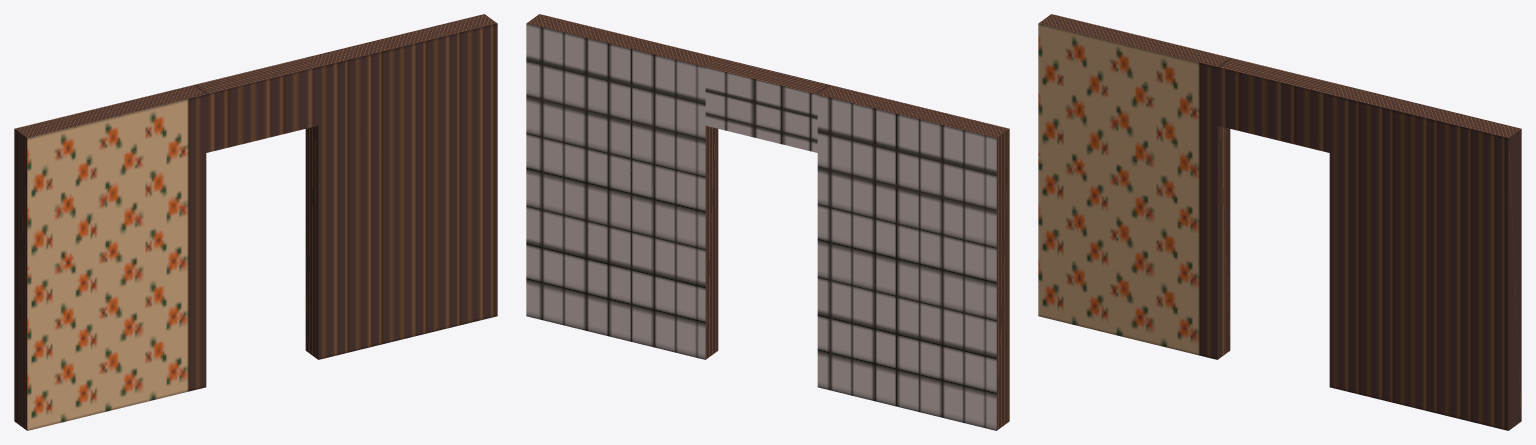
The model's file is Paredes_Baño_Corredor.obj.
3 renders of one model, left to right at view 1: azimuth 30°, elevation 25°; view 2: azimuth 150°, elevation 25°; view 3: azimuth 330°, elevation 25°, orthographic.
Parts seen in each view (by area): view 1: Paredes_Baño_Corredor; view 2: Paredes_Baño_Corredor; view 3: Paredes_Baño_Corredor.
Boxes of the visible parts, x1,y1,x2,y2 form: Paredes_Baño_Corredor: (14, 14, 497, 430); Paredes_Baño_Corredor: (526, 14, 1009, 430); Paredes_Baño_Corredor: (1038, 14, 1521, 430).
Size of the model in its own units: 2.62 by 1.56 by 0.125.
1 material, 1 textured.
